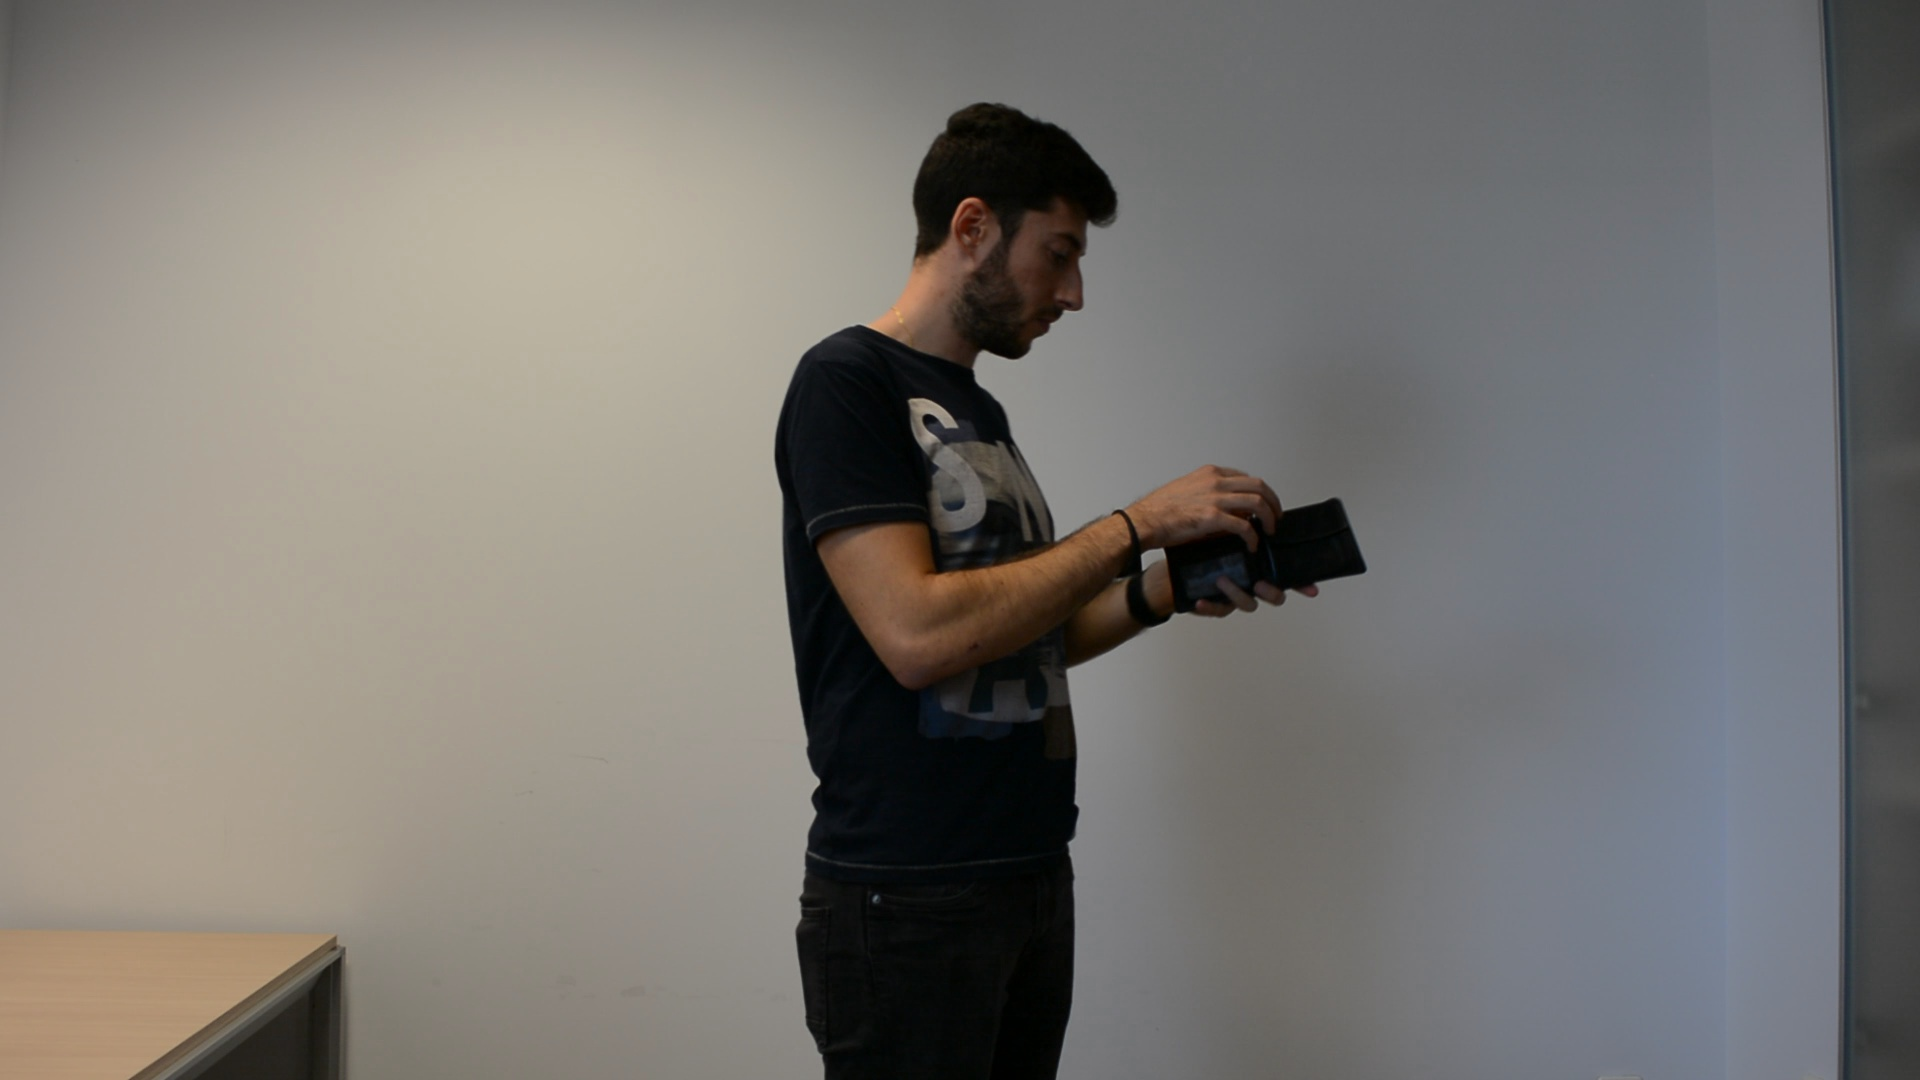monedero: (1162, 493, 1370, 616)
